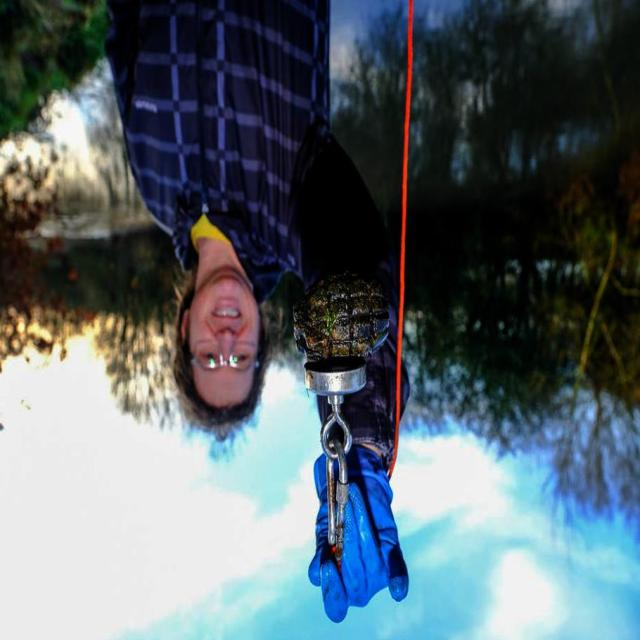grenade: (295, 273, 392, 359)
